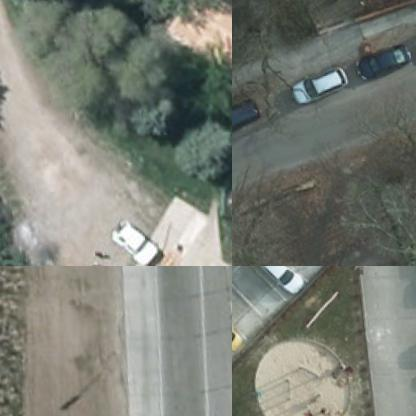car: (105, 206, 166, 265), (288, 58, 350, 110), (356, 40, 414, 82), (253, 266, 307, 299), (232, 92, 264, 141), (232, 302, 249, 357)
